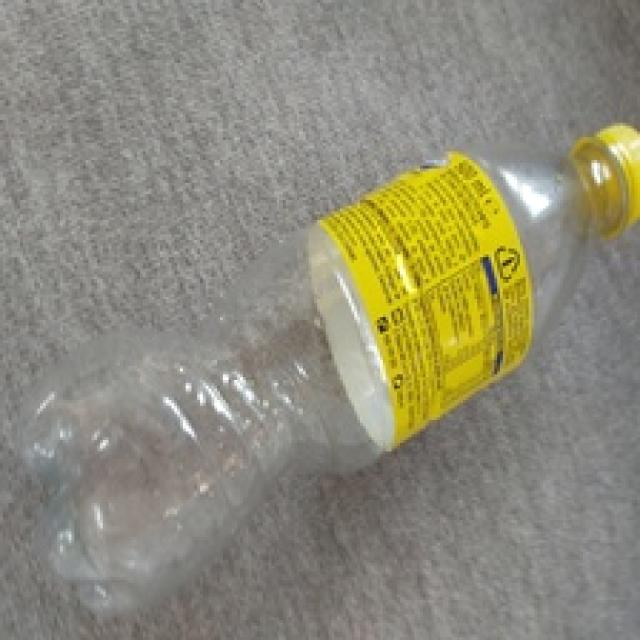bottle: (25, 51, 640, 616)
